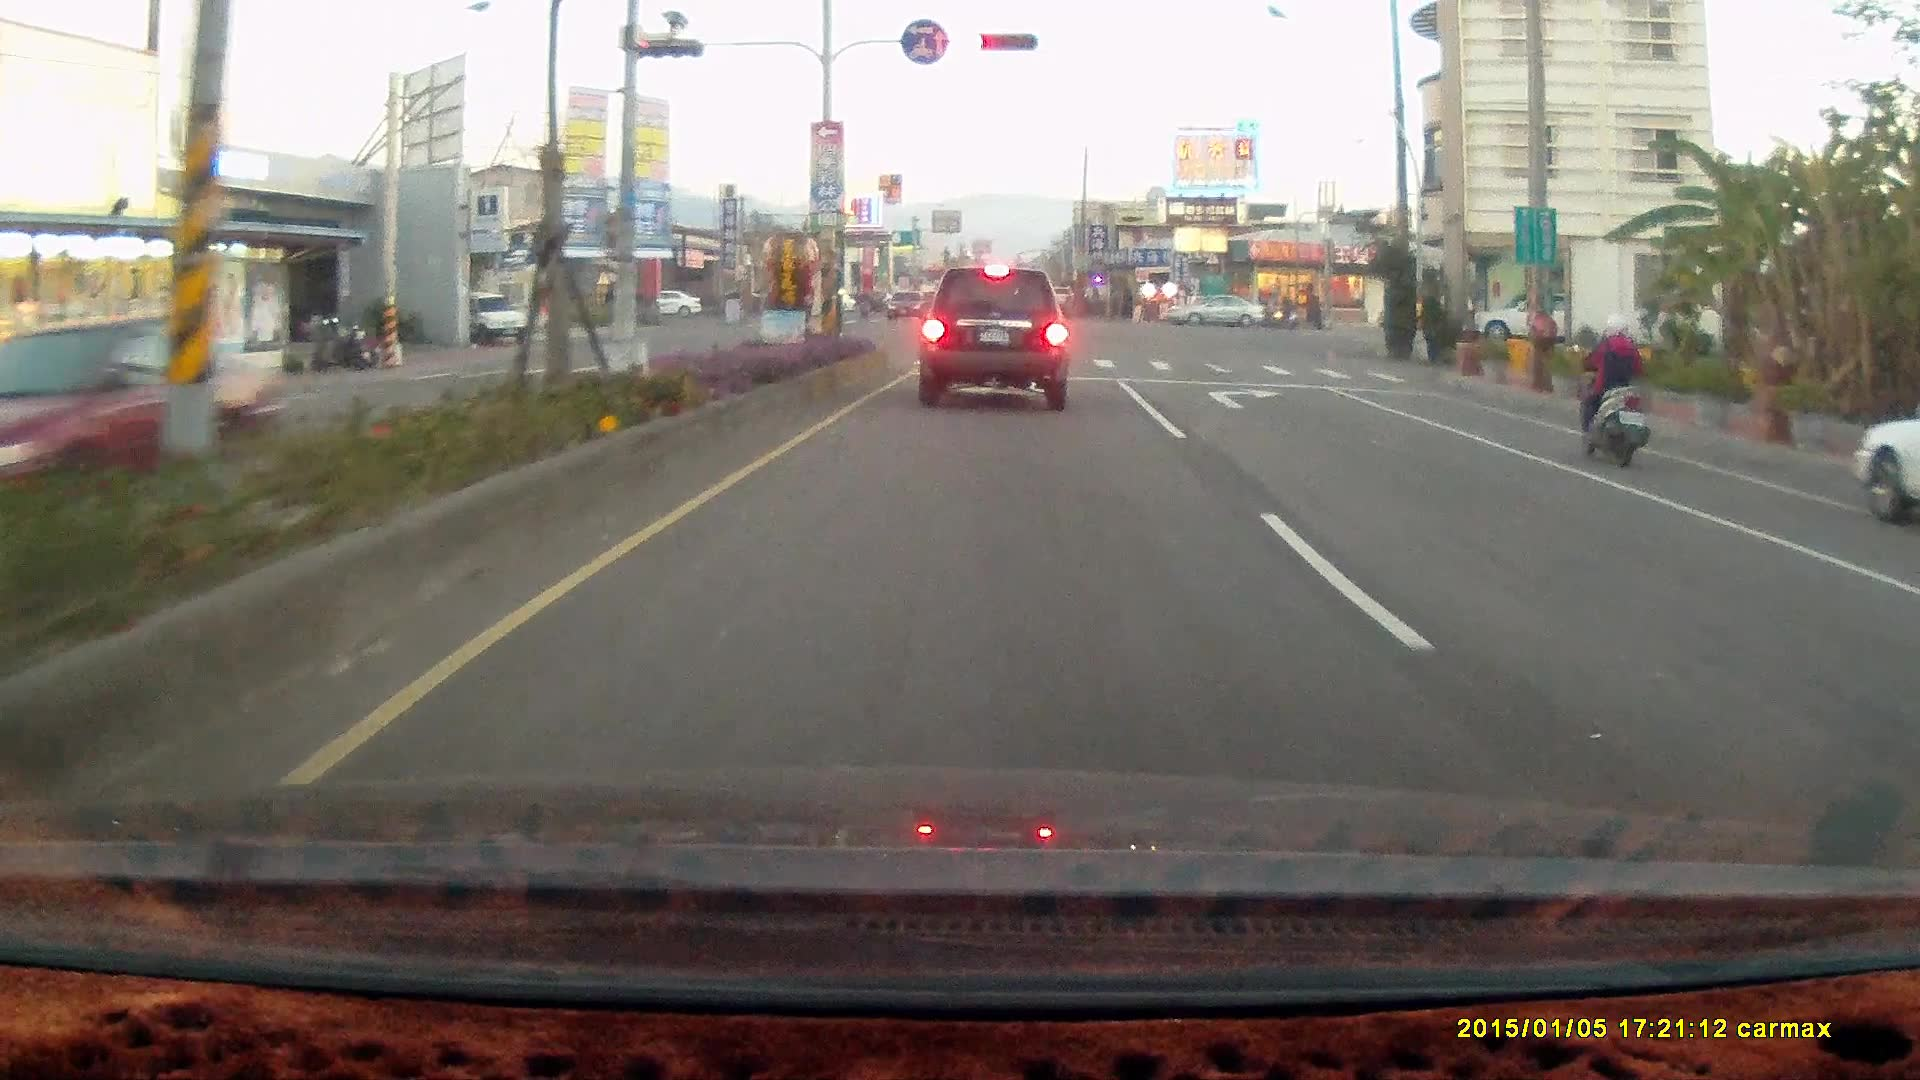rider: (1568, 306, 1650, 463), (1268, 293, 1303, 328)
vehicle: (917, 266, 1068, 411), (1852, 365, 1920, 529), (1896, 493, 1920, 836), (1852, 408, 1918, 530), (1470, 286, 1592, 346), (1883, 528, 1920, 690), (457, 290, 532, 348), (1161, 293, 1268, 331), (1162, 291, 1267, 326)
